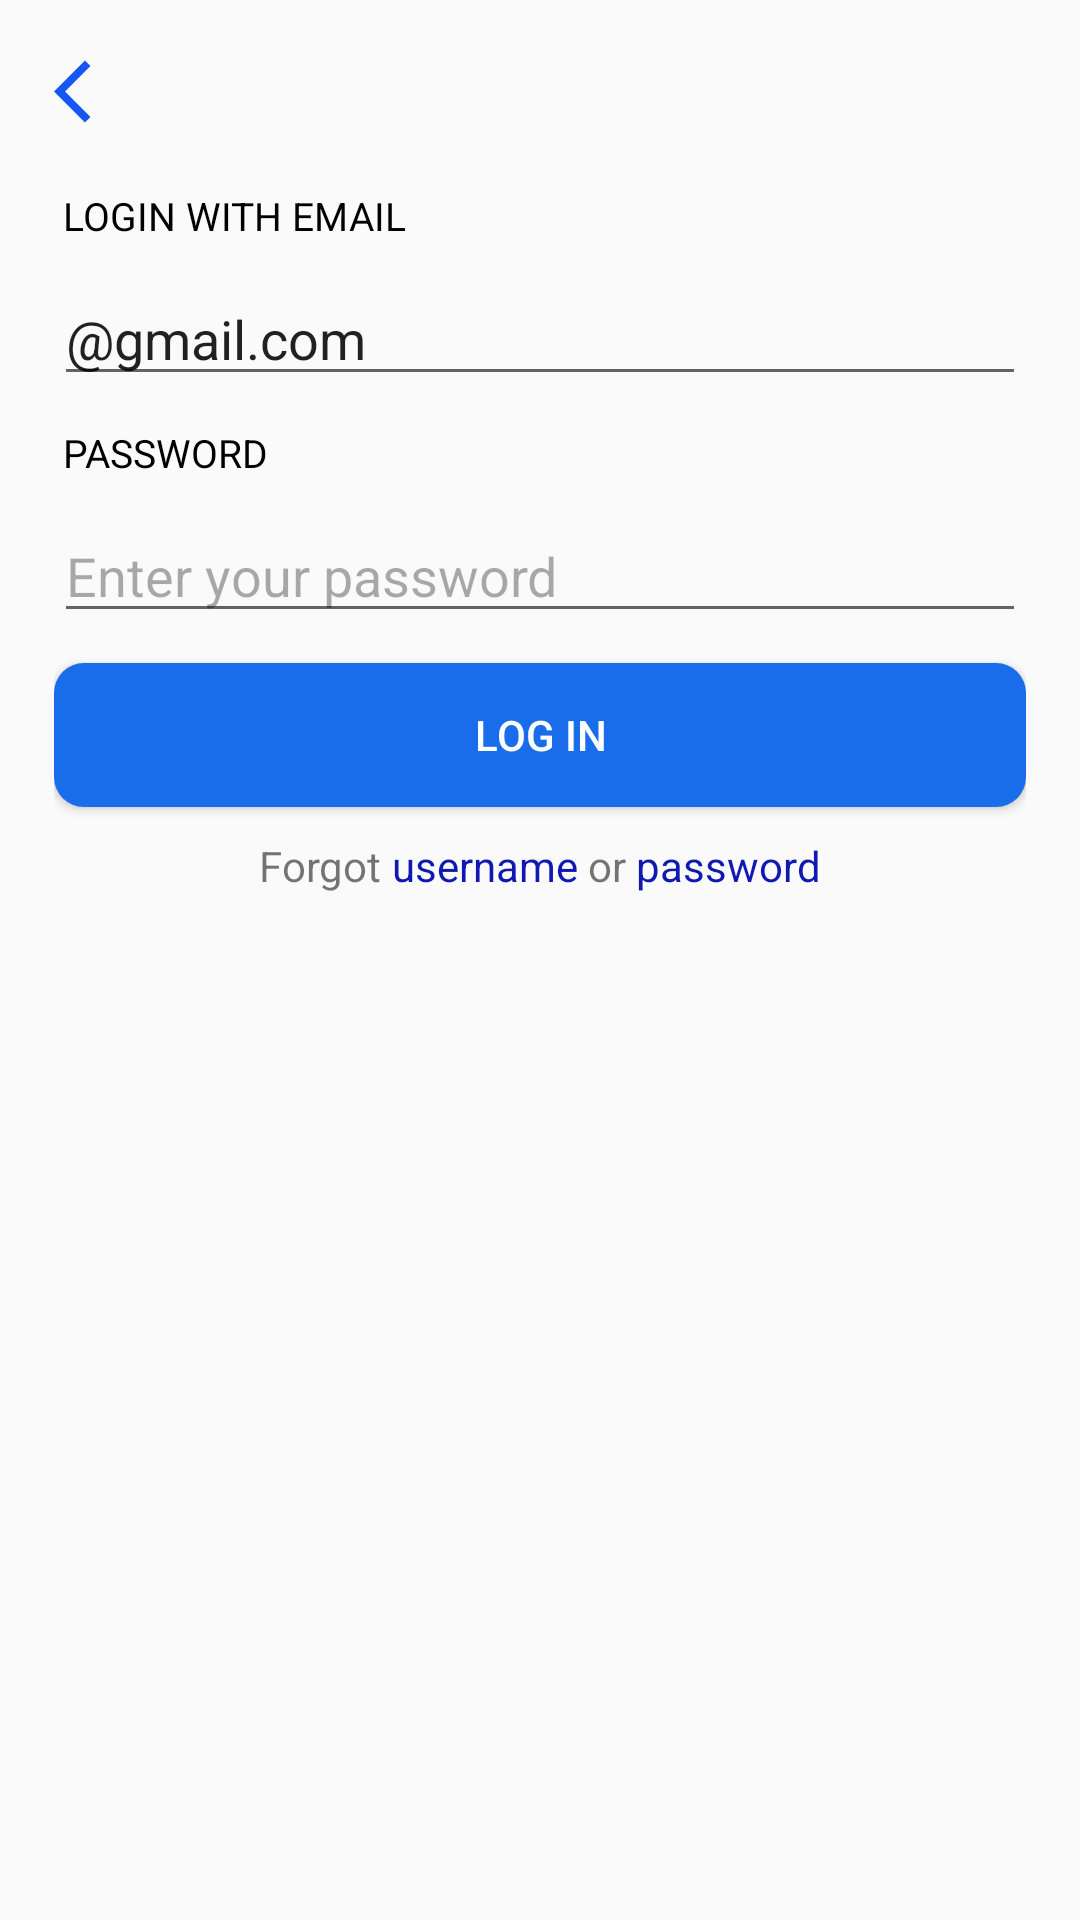

Icon click points for this 1080 x 1920 phone screenshot, format point (x, y):
back: point (72, 91)
